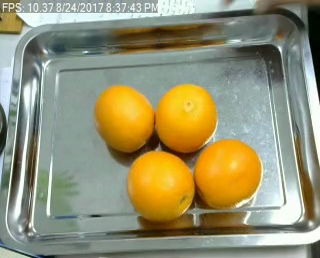Orange: (193, 139, 262, 209), (127, 149, 195, 220), (153, 83, 217, 151), (93, 85, 155, 151)
